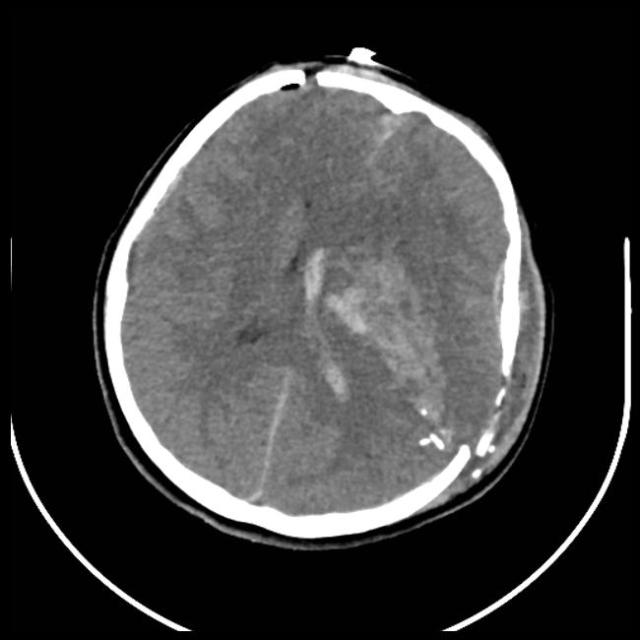lesion: (99, 58, 546, 538)
